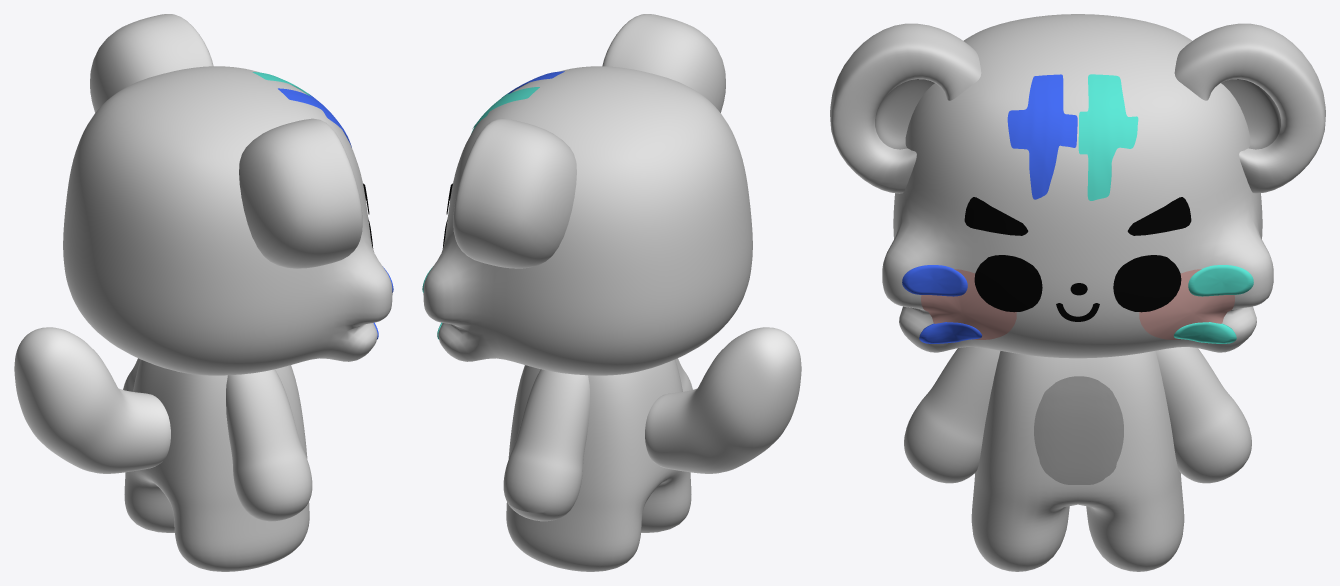
The model's file is hoi.fbx.
The picture shows the model from 3 angles, left to right: view 1: azimuth 30°, elevation 25°; view 2: azimuth 150°, elevation 25°; view 3: azimuth 270°, elevation 25°; orthographic projection. The views are drawn at different scales.
Visible parts, largest first — view 1: body, tail; view 2: body, tail; view 3: body, eye_right, eye_left.
Part boxes in pixels (x1,y1,x2,y2): body: [63, 14, 393, 571]; tail: [14, 327, 170, 473]; body: [422, 14, 752, 571]; tail: [645, 327, 801, 473]; body: [830, 14, 1325, 571]; eye_right: [1113, 255, 1181, 312]; eye_left: [974, 255, 1042, 312].
Bounding box in the file's own units: 350 × 480 × 406.
